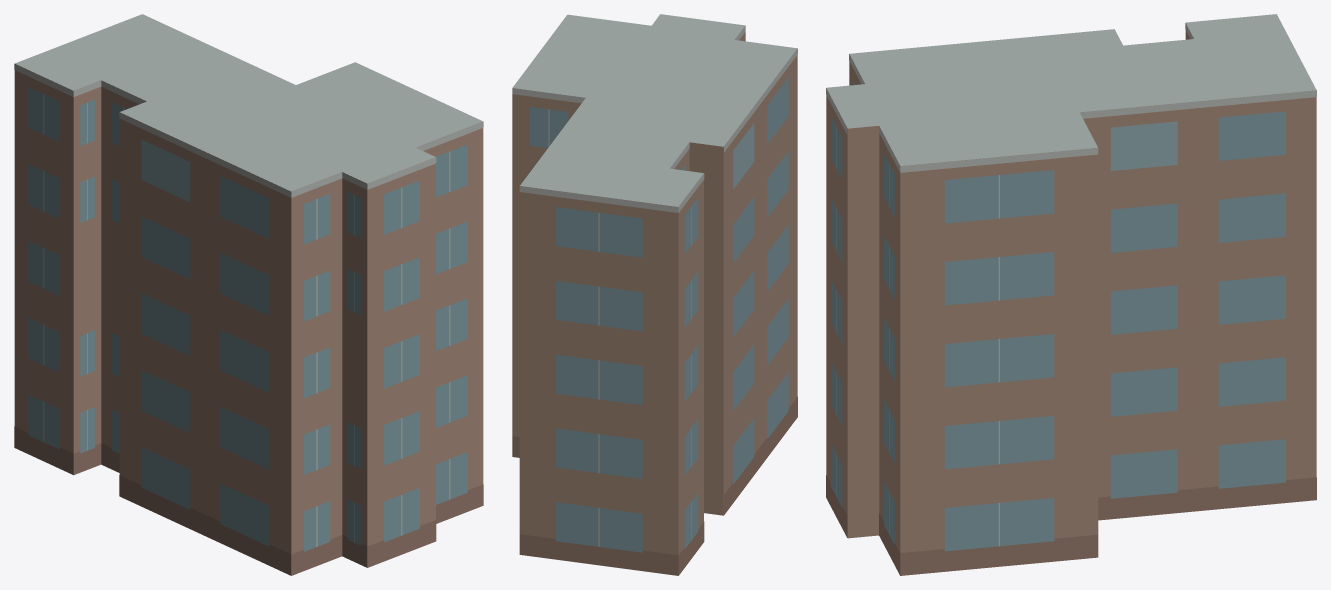
File: survey-upis-32610932.glb
3 views of the same model, side by side, from view 1: azimuth 30°, elevation 25°; view 2: azimuth 150°, elevation 25°; view 3: azimuth 270°, elevation 25° (orthographic). The views are drawn at different scales.
Visible parts, largest first — view 1: survey-upis-32610932.tmp; view 2: survey-upis-32610932.tmp; view 3: survey-upis-32610932.tmp.
Boxes of the visible parts, box(x1,y1,x2,y2) form: survey-upis-32610932.tmp: box(14, 14, 483, 575); survey-upis-32610932.tmp: box(512, 14, 797, 575); survey-upis-32610932.tmp: box(826, 14, 1316, 575).
Bounding box in the file's own units: 11.75 × 14.75 × 16.02.
